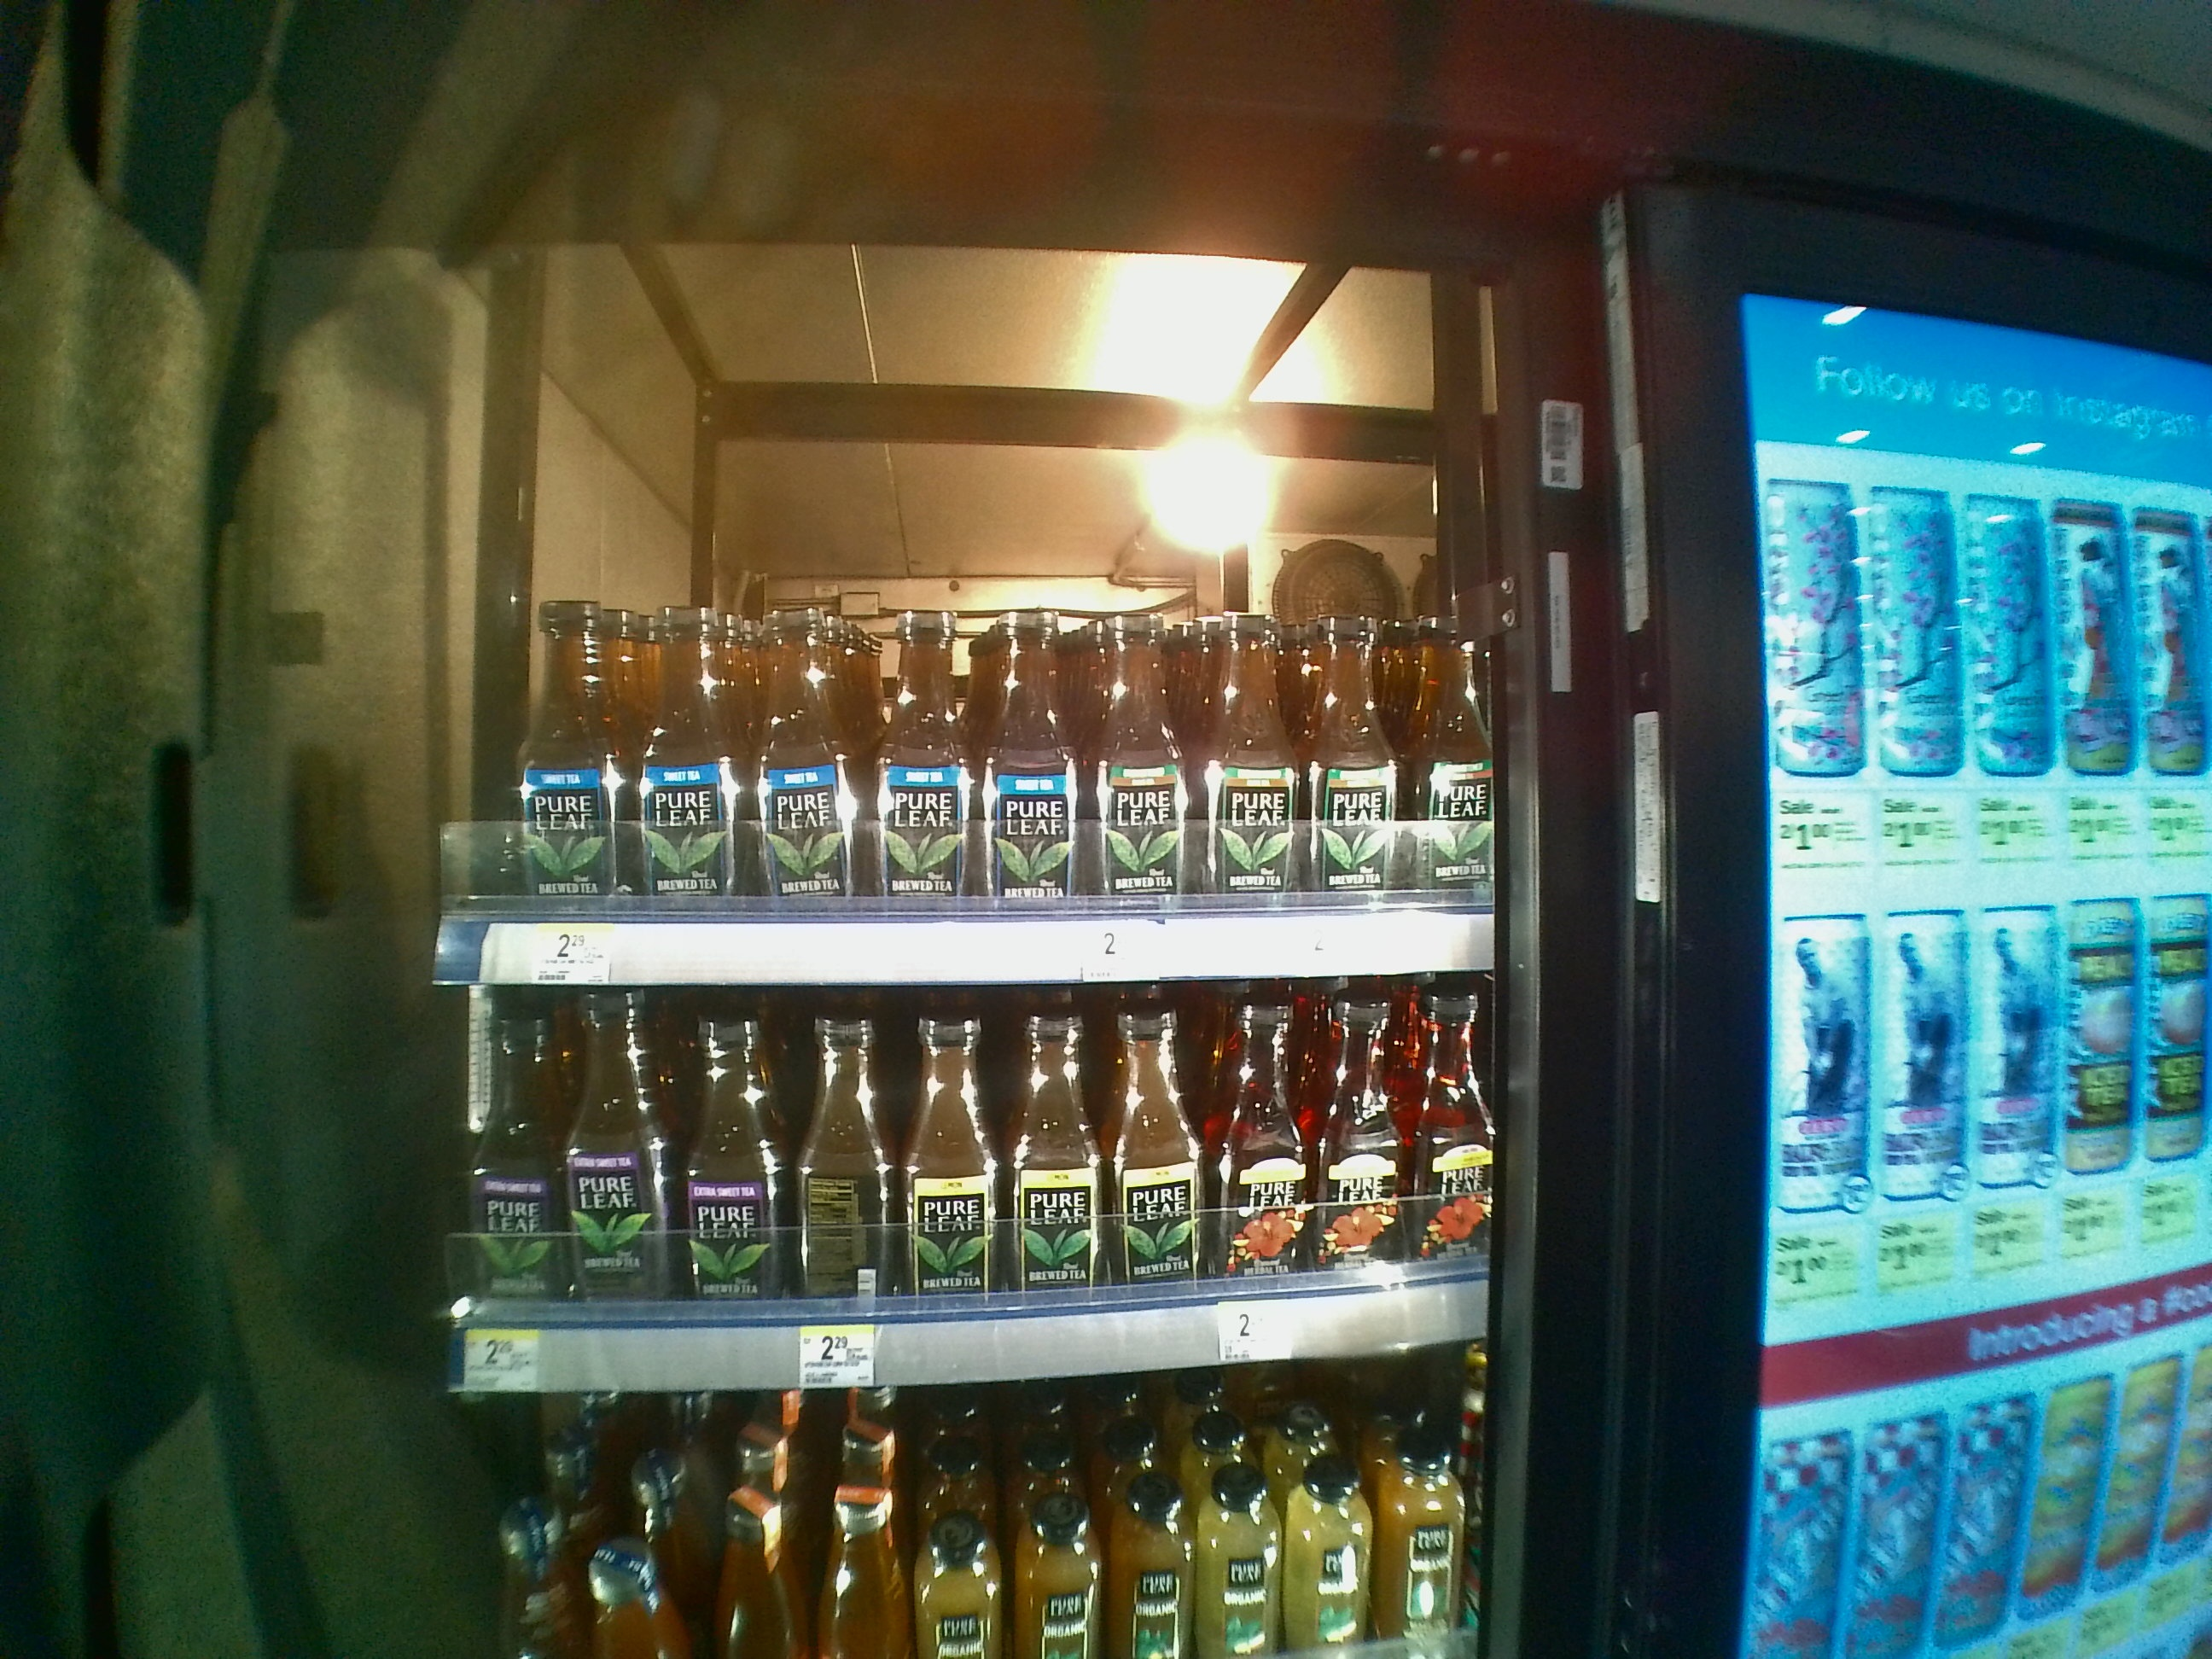shelf: (434, 385, 1493, 983), (434, 990, 1501, 1389)
